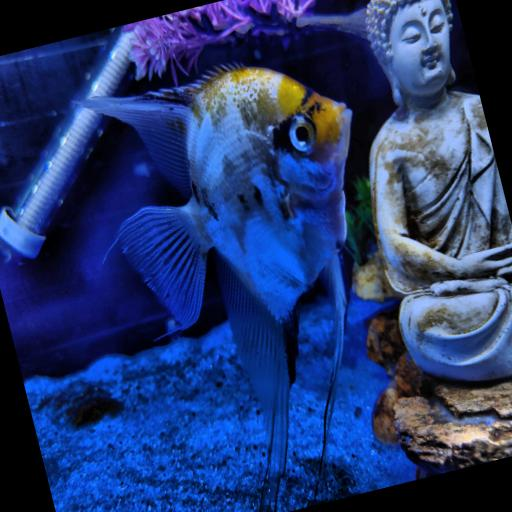Fish: (80, 66, 352, 511)
